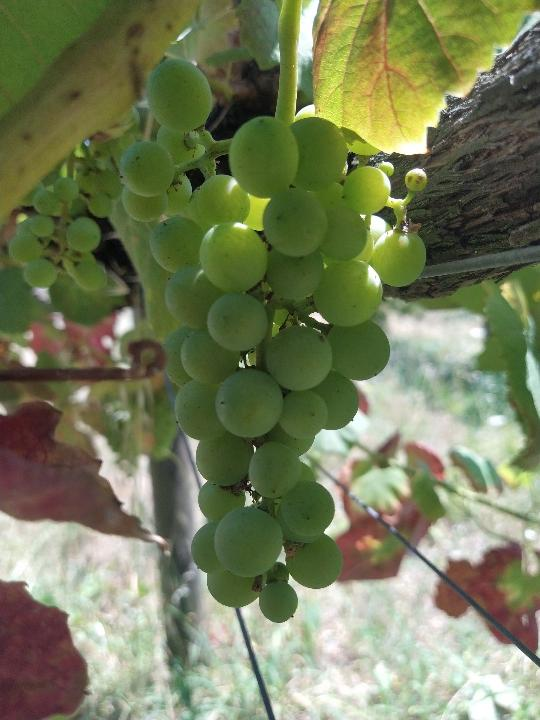grape: (109, 57, 428, 626)
